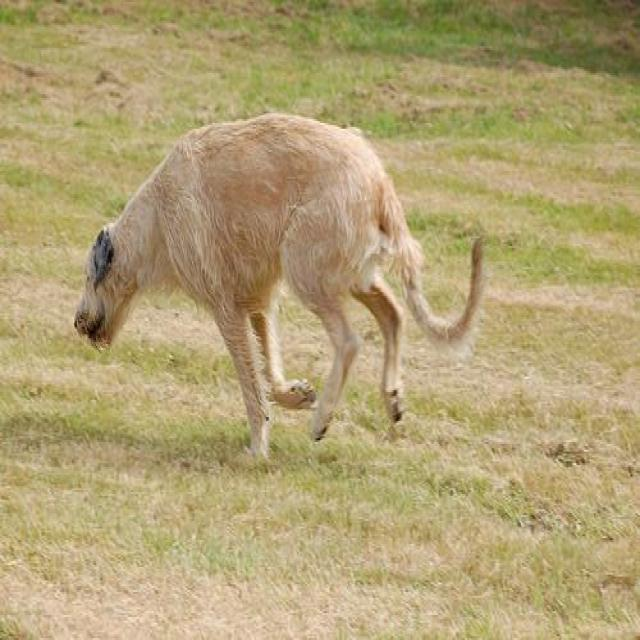irish_wolfhound: (73, 112, 484, 456)
